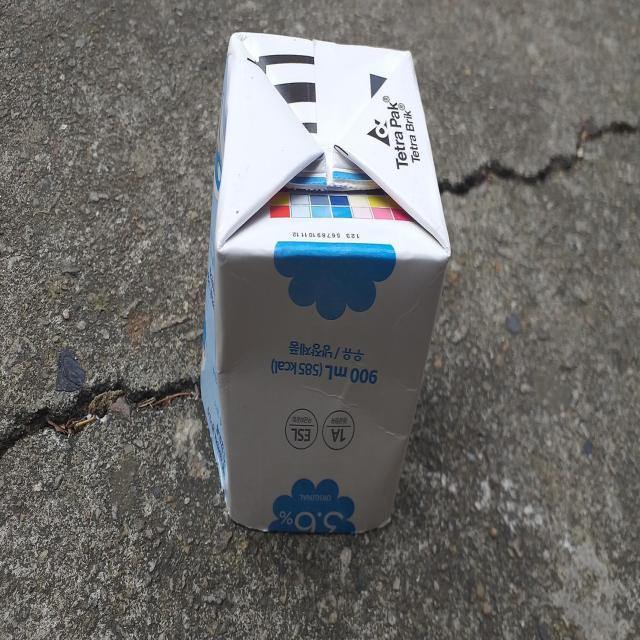paperpack: (201, 31, 451, 534)
